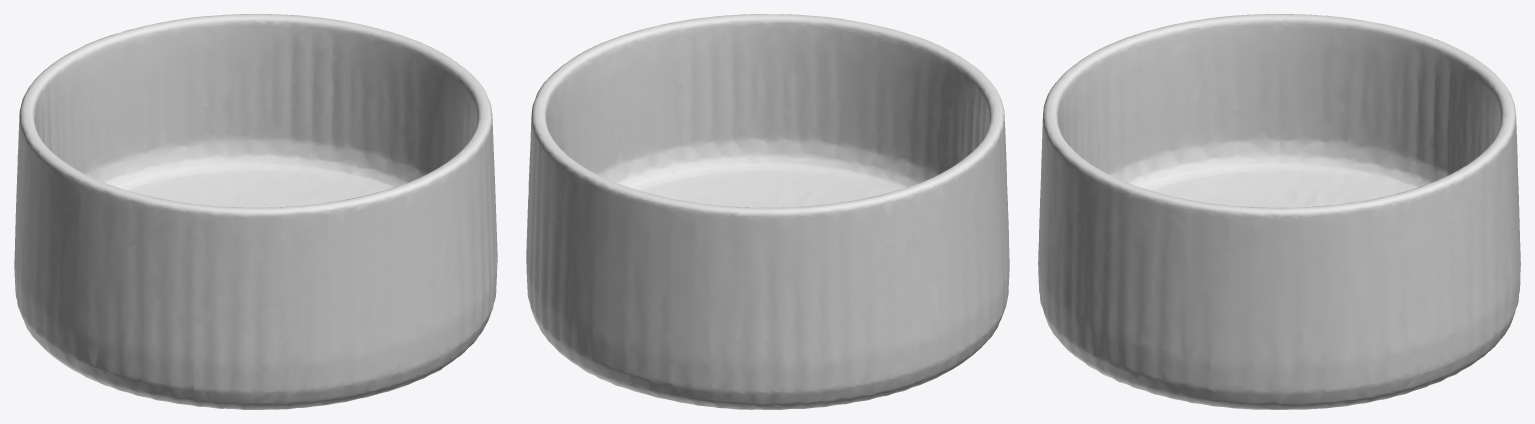
Rendered from modern-white-sink-web-mesh.glb.
3 views of the same model, side by side, from view 1: azimuth 30°, elevation 25°; view 2: azimuth 150°, elevation 25°; view 3: azimuth 270°, elevation 25° (orthographic).
Parts seen in each view (by area): view 1: world; view 2: world; view 3: world.
Boxes of the visible parts, box(x1,y1,x2,y2) form: world: box(14, 14, 497, 409); world: box(526, 14, 1009, 409); world: box(1038, 14, 1520, 409).
Size of the model in its own units: 0.9992 by 0.4915 by 0.9994.
1 material, 1 textured.
